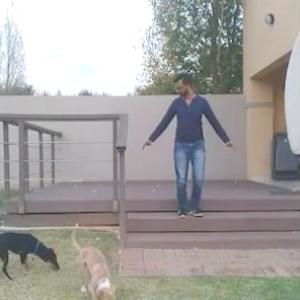land: (148, 72, 231, 227)
